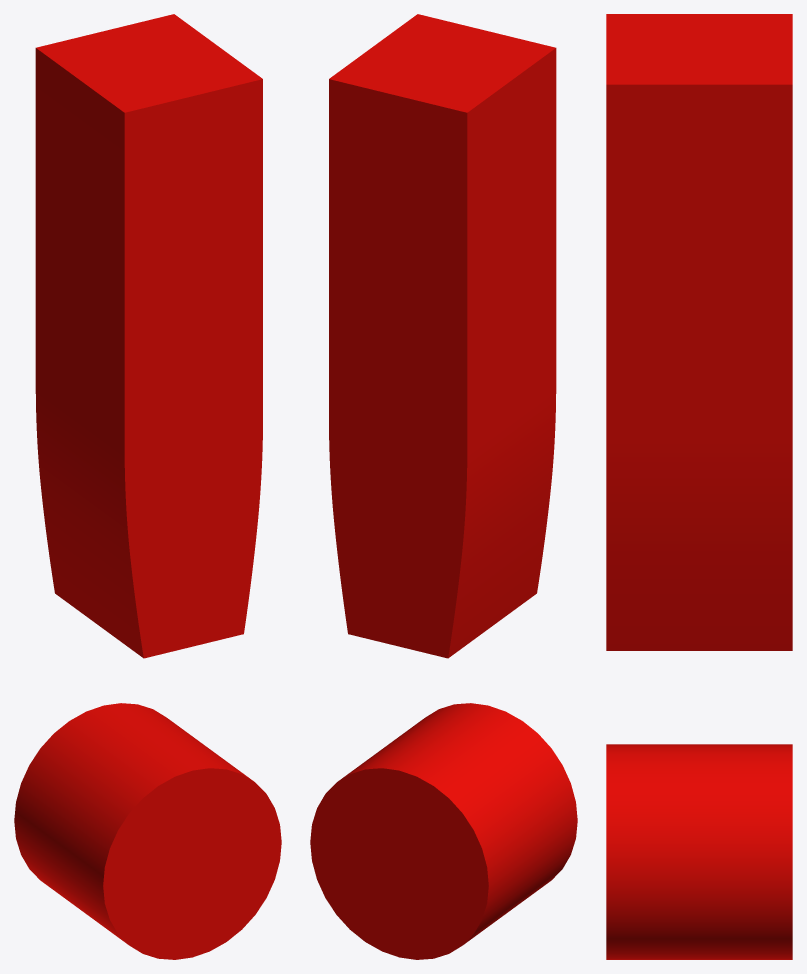
Rendered from exclamationmark.fbx.
3 renders of one model, left to right at view 1: azimuth 30°, elevation 25°; view 2: azimuth 150°, elevation 25°; view 3: azimuth 270°, elevation 25°, orthographic. The views are drawn at different scales.
Visible parts, largest first — view 1: Text.002; view 2: Text.002; view 3: Text.002.
Part boxes in pixels (x1,y1,x2,y2): Text.002: (14, 14, 281, 959); Text.002: (310, 14, 577, 959); Text.002: (606, 14, 792, 959).
Bounding box in the file's own units: 11.6 × 53.46 × 10.
